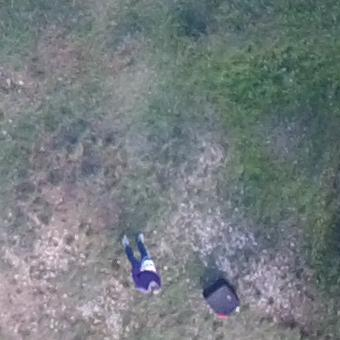human: (118, 232, 164, 296)
